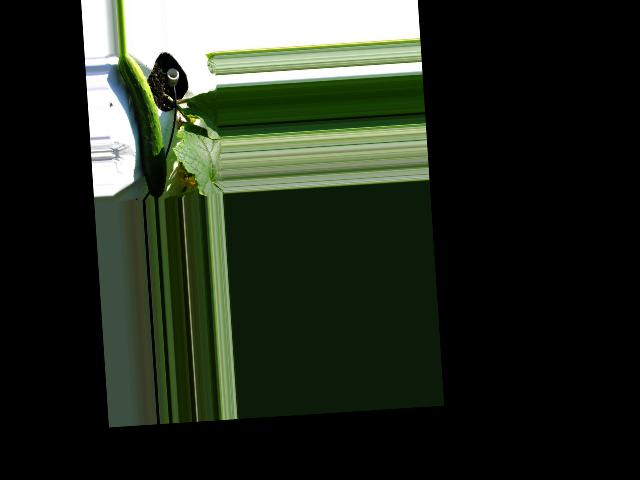cucumber: (117, 50, 168, 200)
